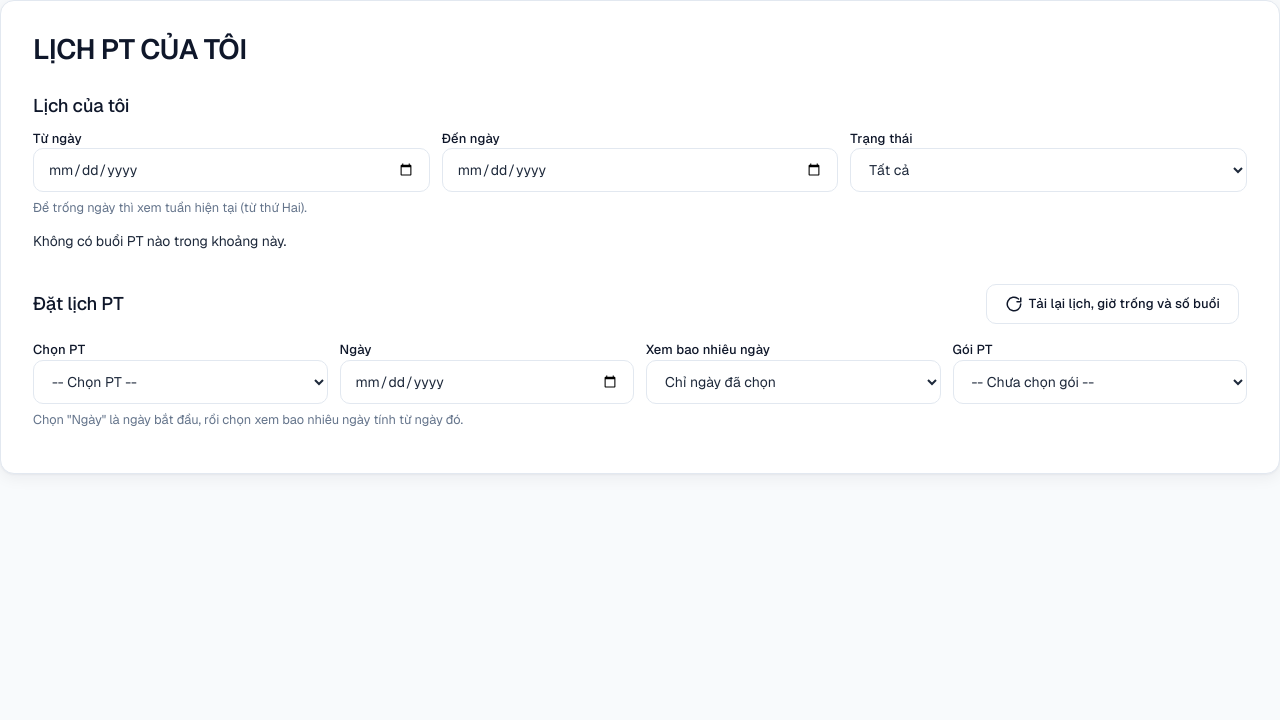
US-27 bước 3: trang /member/pt-bookings › US-27-TC12: chọn gói → gửi membershipId; slot bookable mở, slot bookable=false khóa và giải thích lý do
The width and height of the screenshot is (1280, 720).
Select "PT Trần Văn Bình" in the dropdown labelled "Chọn PT" at {"x": 180, "y": 382}, box [33,360,328,404]
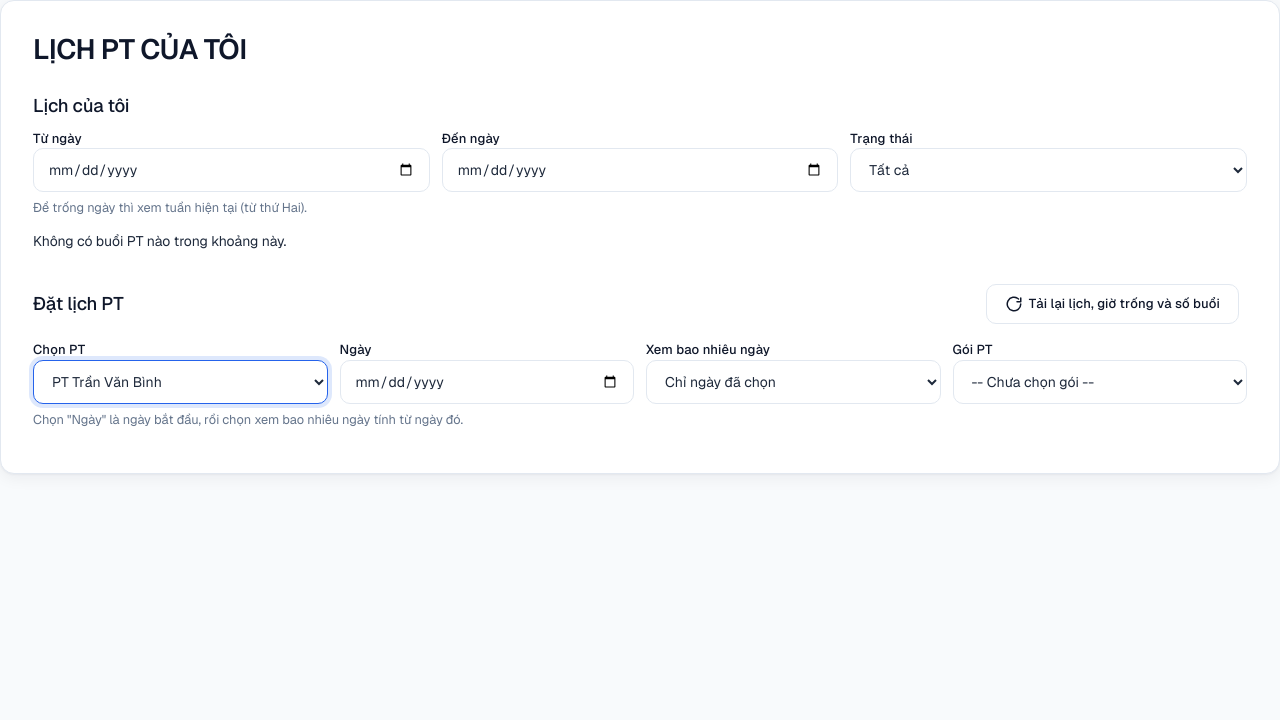
Type "2026-11-25" into the date field labelled "Ngày" at {"x": 487, "y": 382}, box [340,360,634,404]
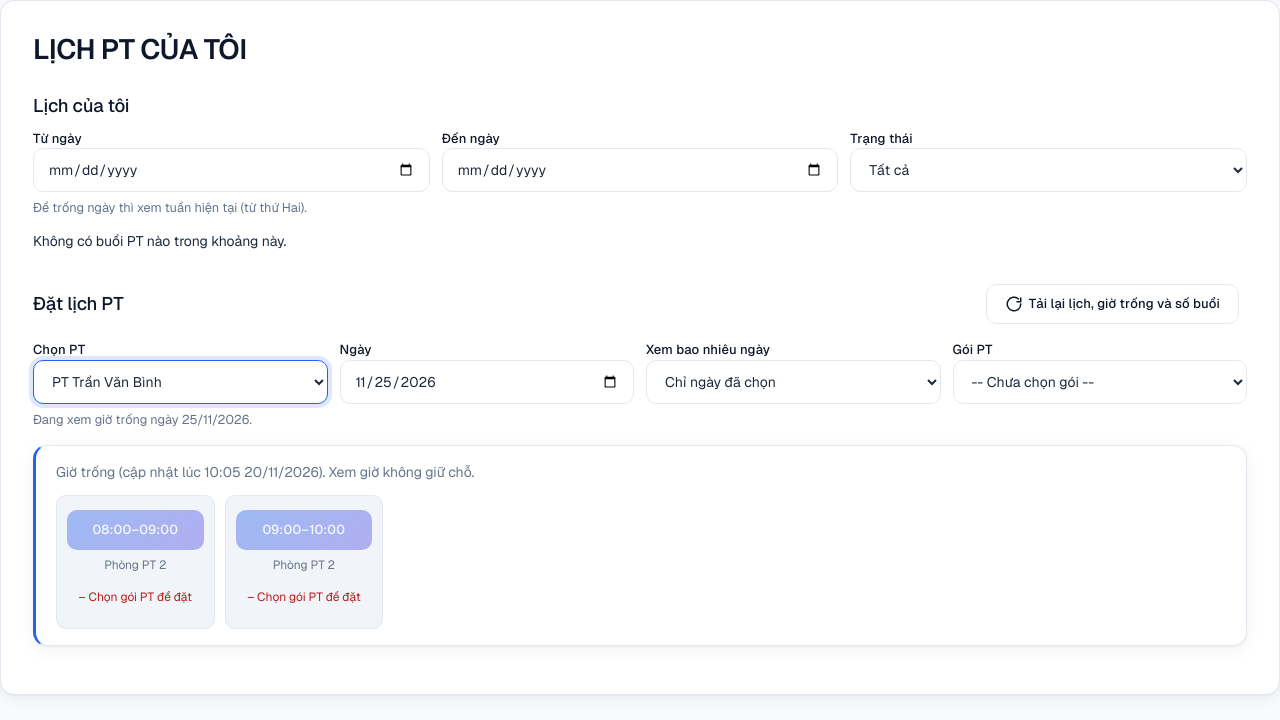
Select "PT 10 buổi" in the dropdown labelled "Gói PT" at {"x": 1100, "y": 382}, box [952,360,1247,404]
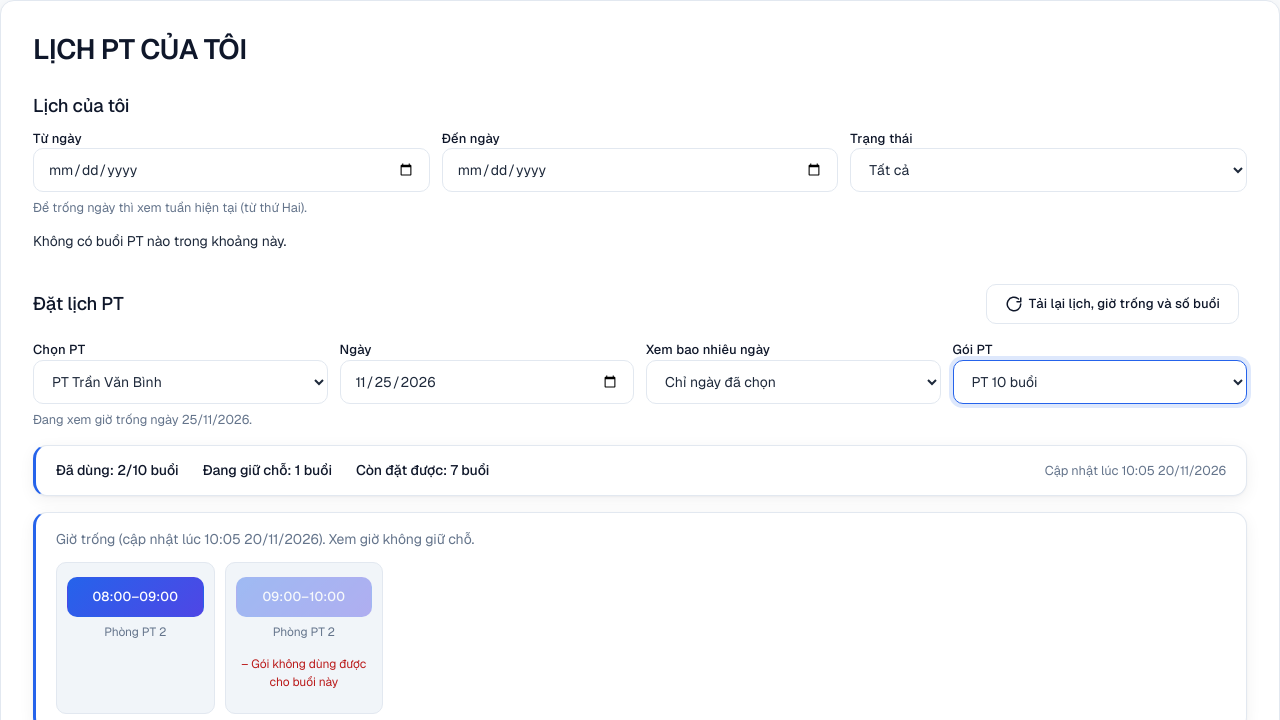
Expected: the button "08:00–09:00" is enabled, [67,577,204,617]
Expected: the text "– Gói không dùng được cho buổi này" is shown, [236,655,372,691]
